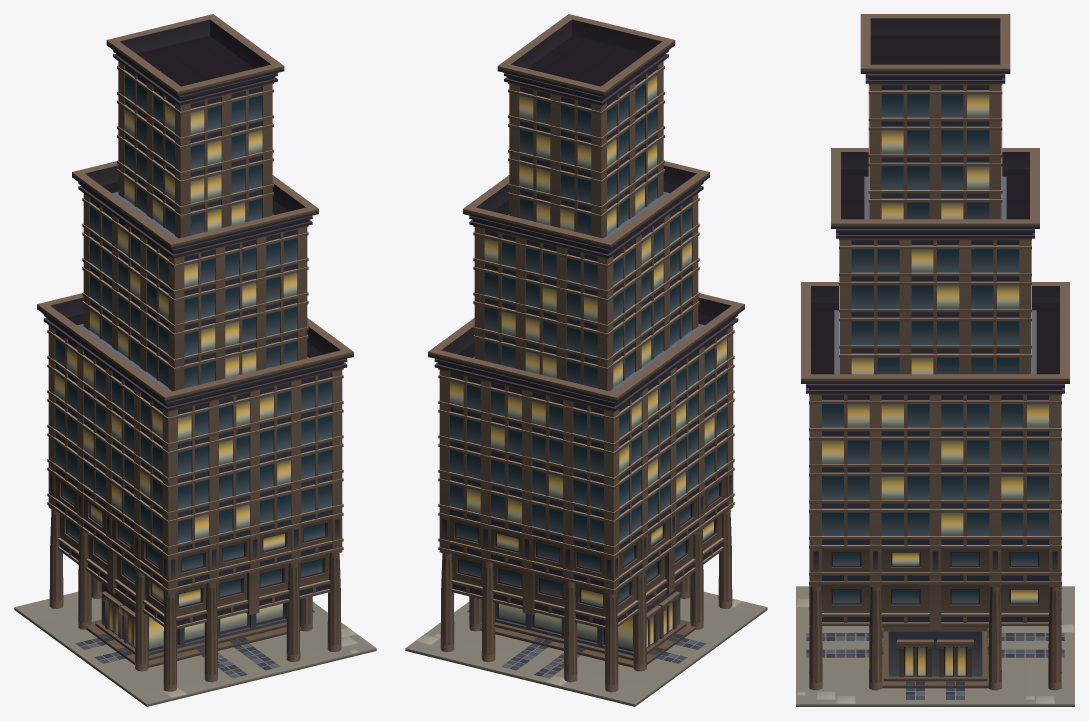
Rendered from Skyscraper_2B.fbx.
3 renders of one model, left to right at view 1: azimuth 30°, elevation 25°; view 2: azimuth 150°, elevation 25°; view 3: azimuth 270°, elevation 25°, orthographic. The views are drawn at different scales.
Visible parts, largest first — view 1: Skyscraper_2B, Window_Lights_Skyscraper_2B; view 2: Skyscraper_2B, Window_Lights_Skyscraper_2B; view 3: Skyscraper_2B, Window_Lights_Skyscraper_2B.
Part boxes in pixels (x1,y1,x2,y2): Skyscraper_2B: (14,14,376,706); Window_Lights_Skyscraper_2B: (55,104,297,649); Skyscraper_2B: (405,14,767,706); Window_Lights_Skyscraper_2B: (450,74,726,649); Skyscraper_2B: (796,14,1074,706); Window_Lights_Skyscraper_2B: (822,94,1048,675).
Bounding box in the file's own units: 28 × 67.2 × 28.
